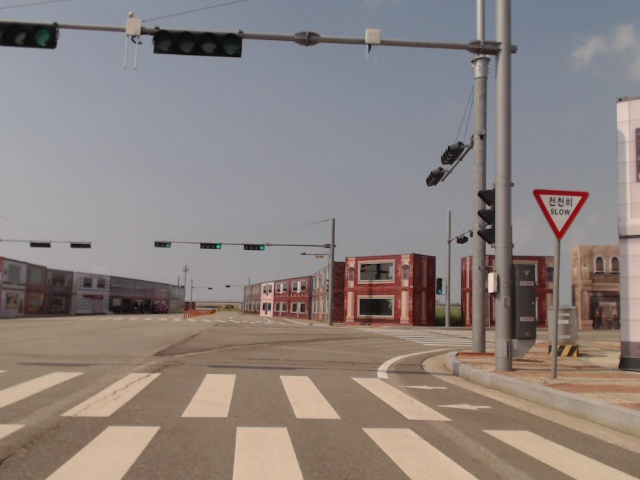straight_green_4: (154, 29, 243, 60), (0, 21, 62, 48), (200, 243, 222, 249), (245, 244, 266, 250)
